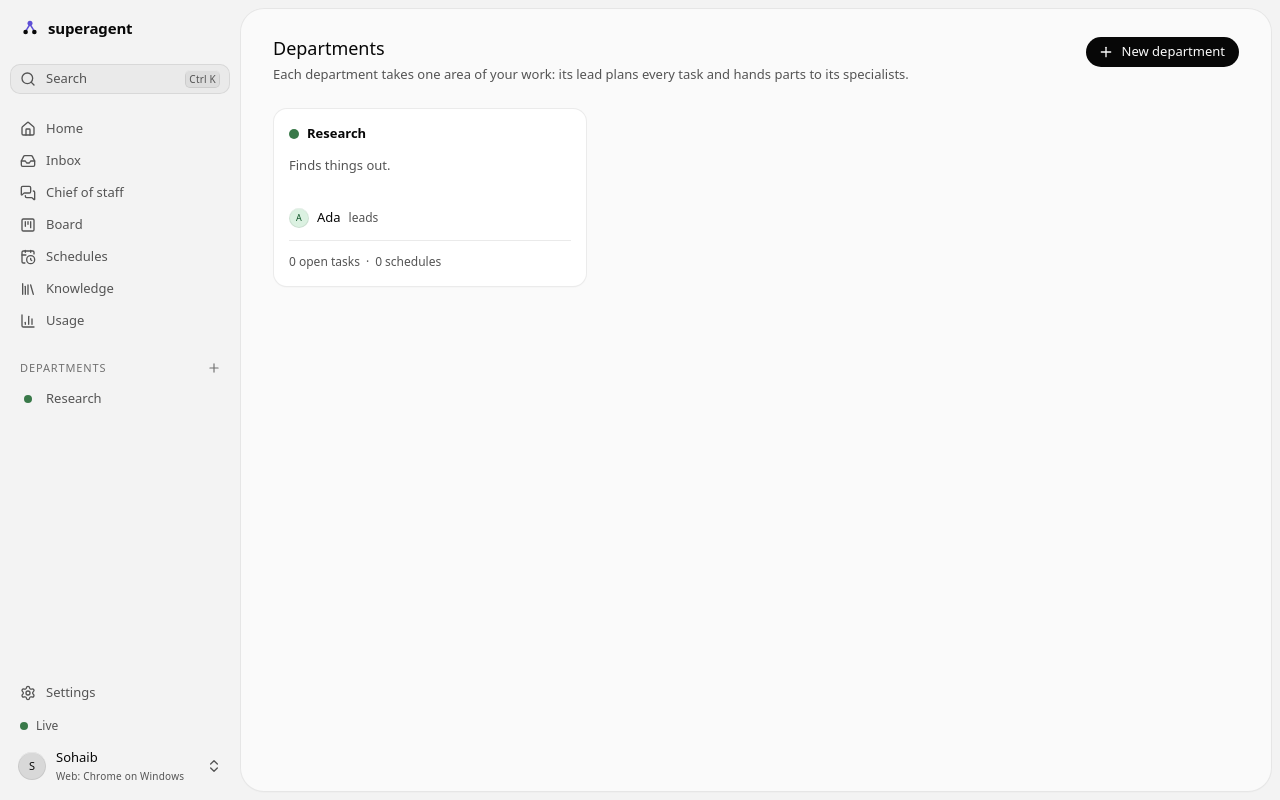
it: the departments › sets one up, then opens its team to add a lead
This screenshot has width=1280, height=800.
Step 1. Click the button "New department" → click(1162, 52), box 1086,37 -> 1239,67
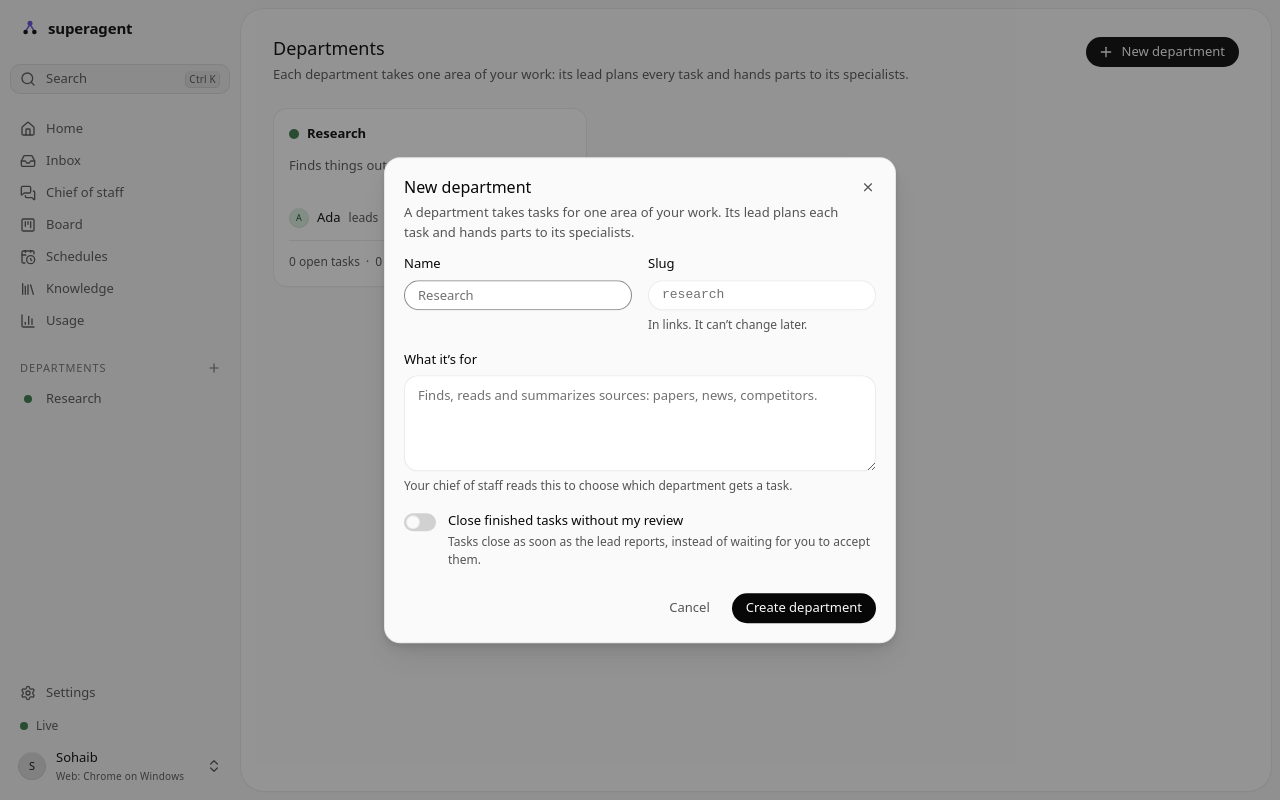
Step 2. Type "Market Research" into the field labelled "Name" → (518, 295), box 404,280 -> 632,310
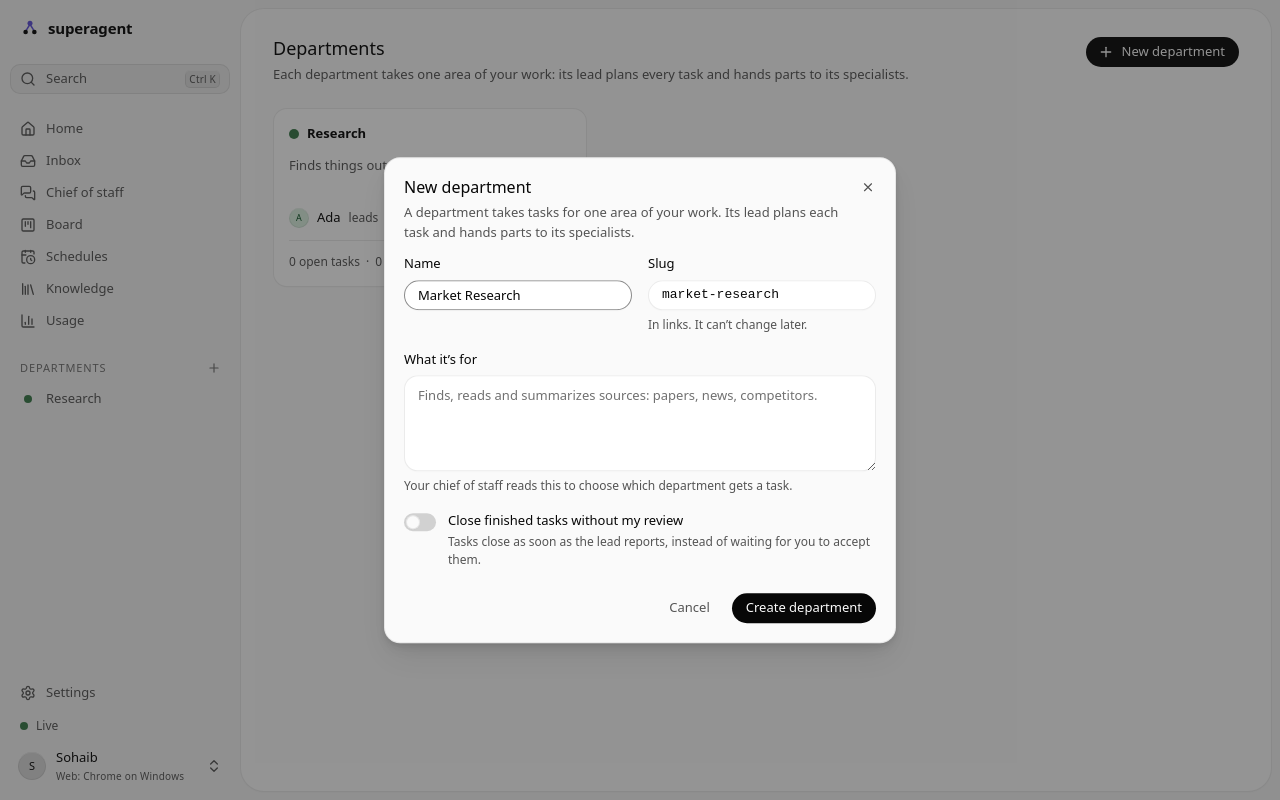
Check: the field labelled "Slug" holds "market-research", box 648,280 -> 876,310
Step 3. Type "Sizes markets." into the text box labelled "What it’s for" → (640, 423), box 404,375 -> 876,471
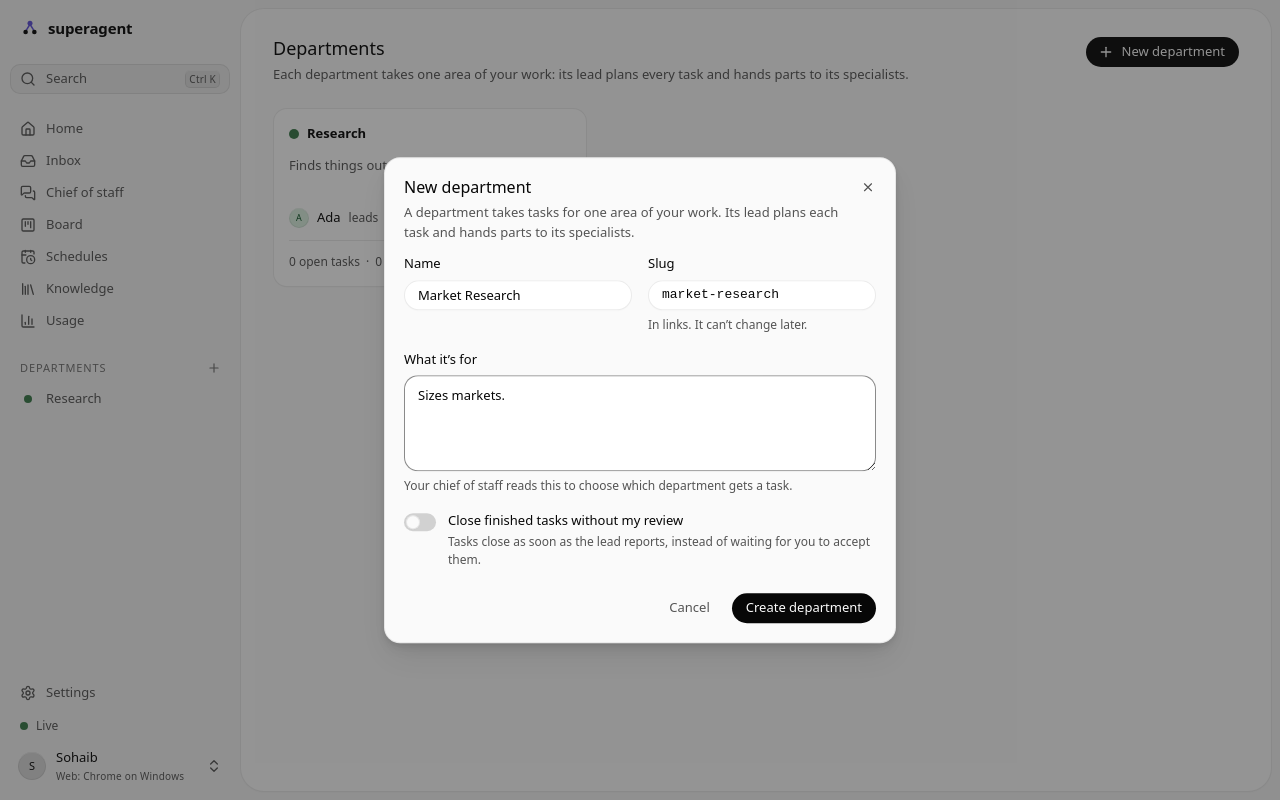
Step 4. Click the switch named "close finished tasks" → click(420, 522), box 404,513 -> 436,531
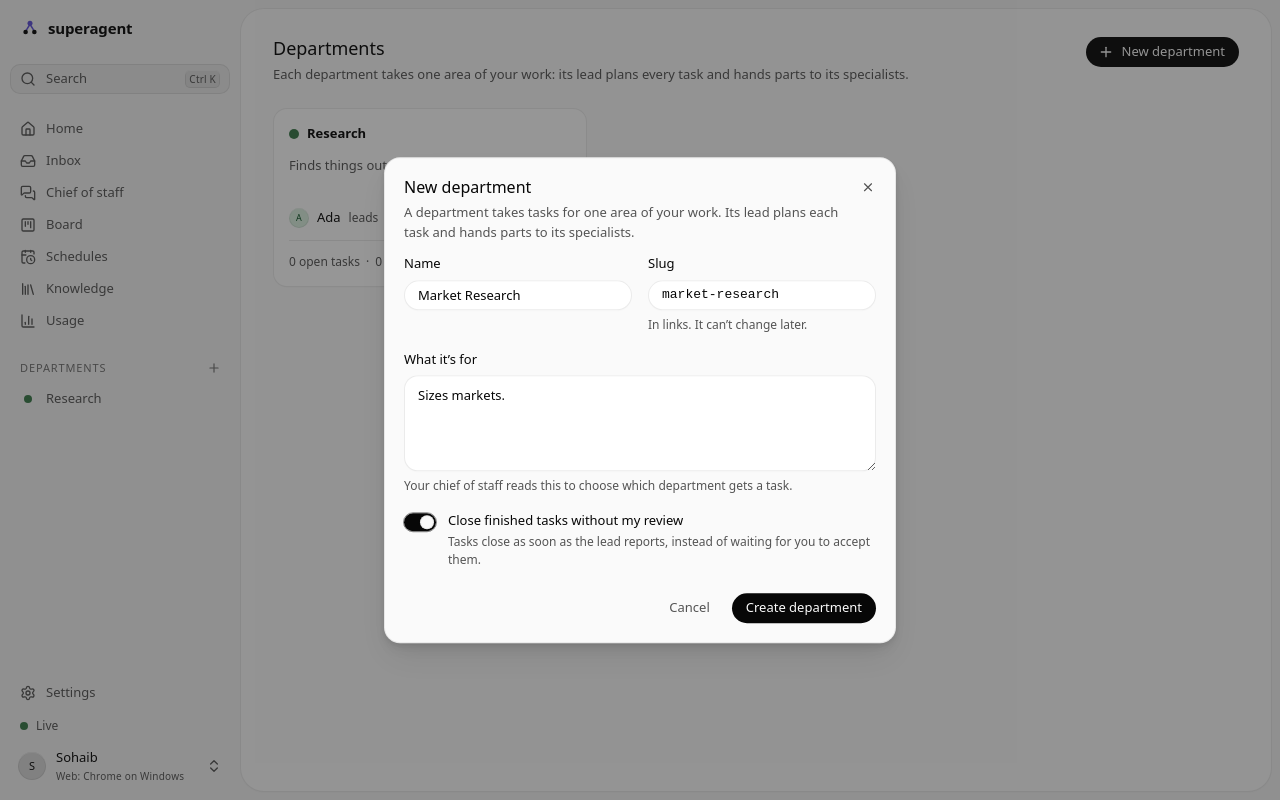
Step 5. Click the button "Create department" → click(804, 608), box 732,593 -> 876,623
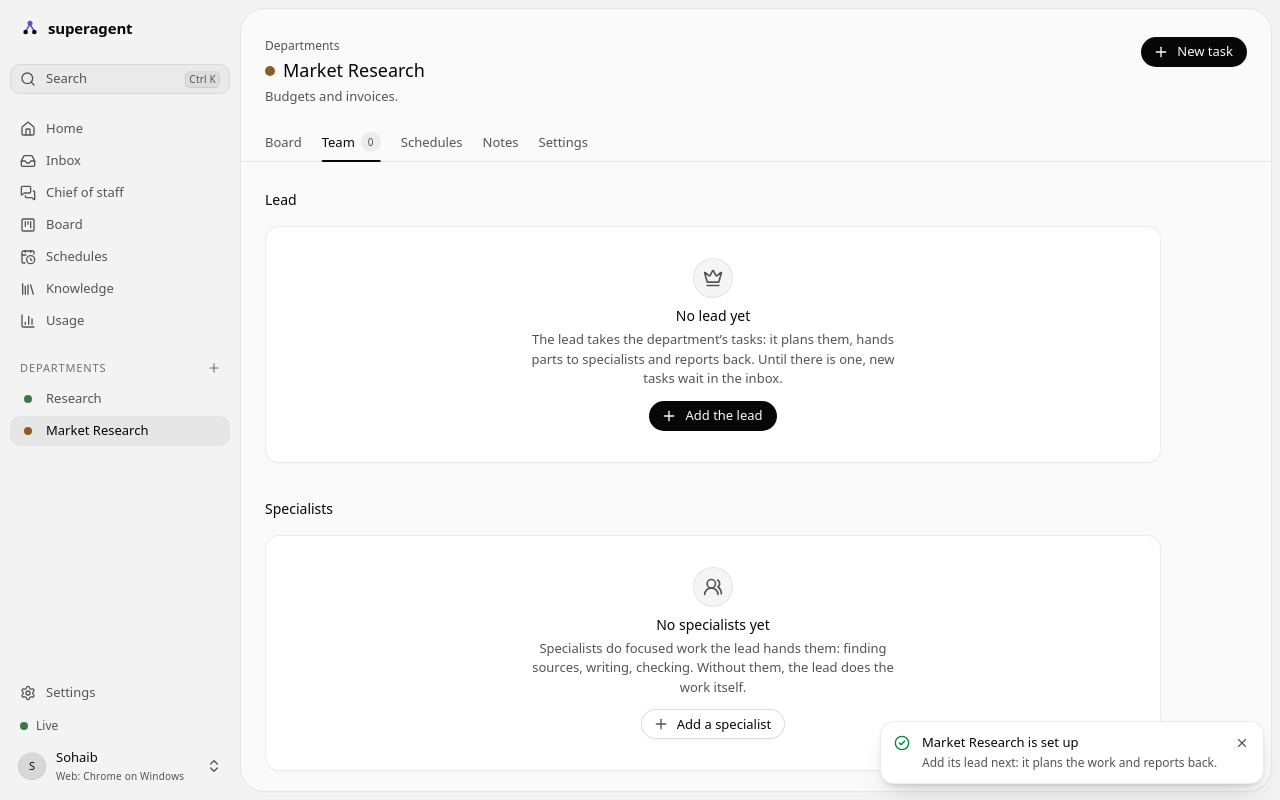
Check: the button "Add the lead" is shown, box 650,401 -> 777,431
